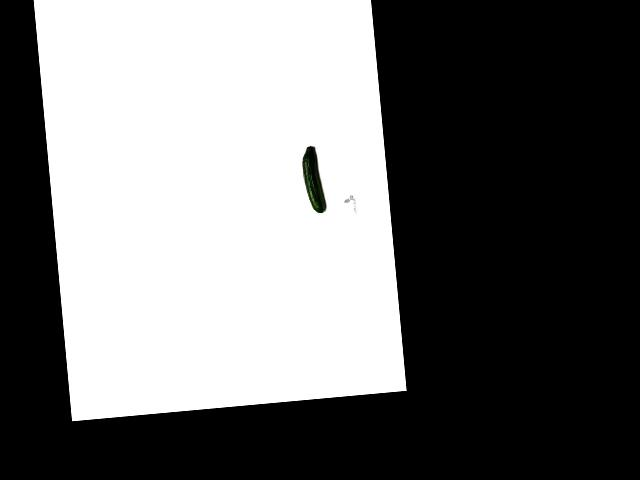cucumber: (301, 145, 326, 214)
